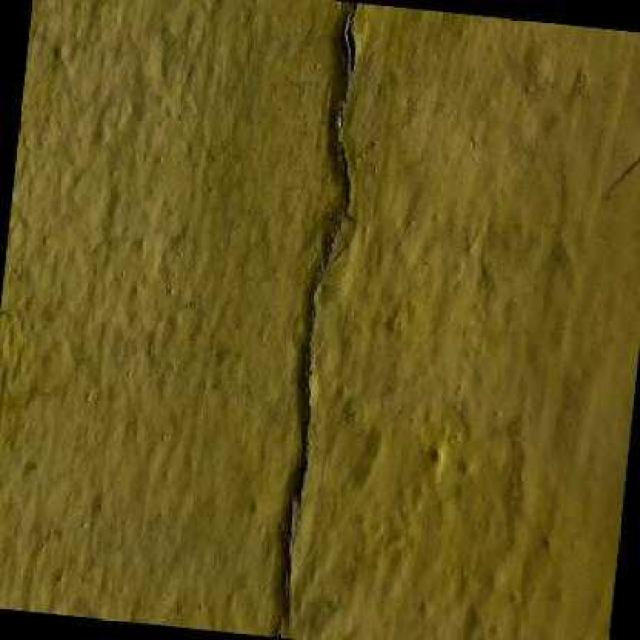D00: (300, 202, 341, 487), (334, 2, 357, 201), (286, 493, 293, 626), (277, 616, 281, 637)
